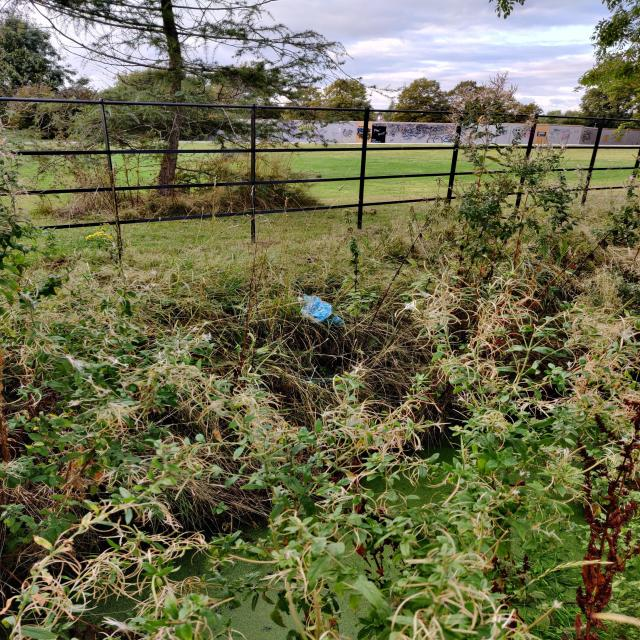litter: (293, 292, 339, 327), (329, 312, 349, 326)
